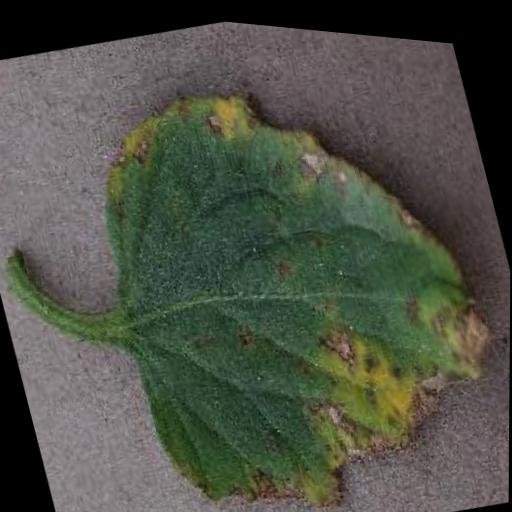Bacterial Spot: (65, 14, 512, 512)
